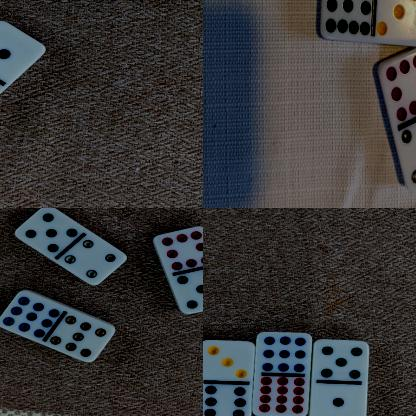pip-1: (0, 20, 45, 77), (308, 383, 367, 416)
pip-11: (318, 0, 374, 40)
pip-12: (251, 375, 309, 416)
pip-3: (203, 341, 255, 384), (375, 0, 416, 46)
pip-4: (63, 240, 126, 286), (399, 117, 416, 194)
pip-5: (12, 208, 77, 254), (312, 340, 369, 383), (172, 269, 203, 315)
pip-6: (203, 383, 251, 416)
pip-7: (49, 316, 114, 363)
pip-8: (377, 51, 416, 122), (152, 228, 203, 271)
pip-9: (0, 290, 60, 339), (256, 332, 312, 376)
